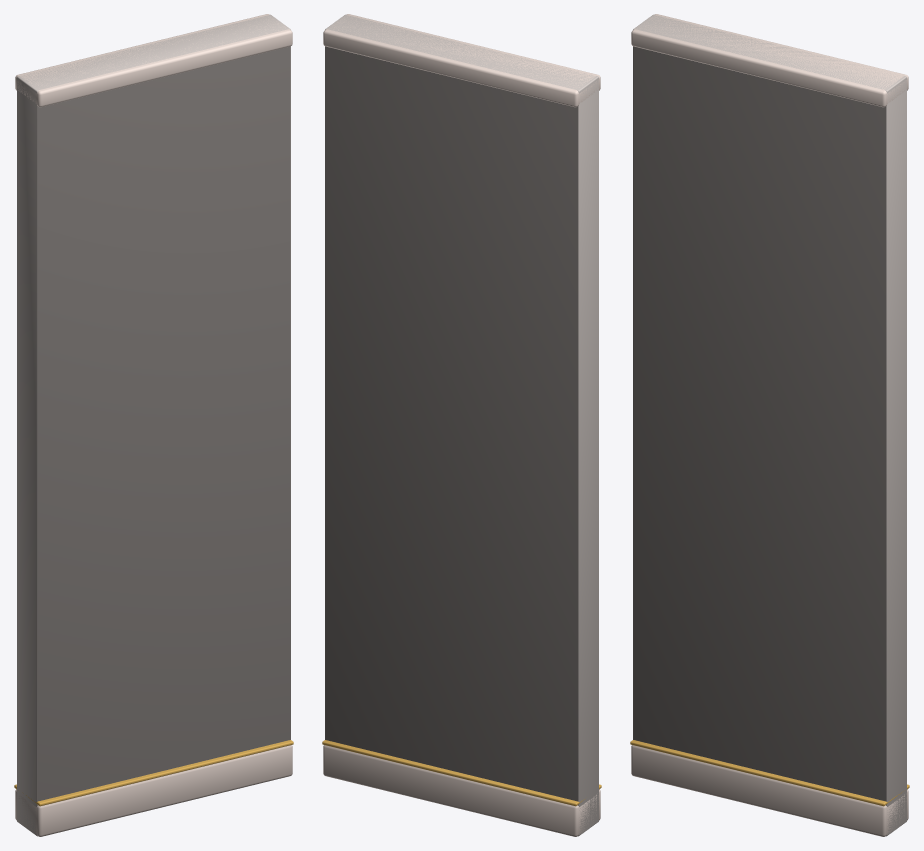
Rendered from wall.glb.
3 views of the same model, side by side, from view 1: azimuth 30°, elevation 25°; view 2: azimuth 150°, elevation 25°; view 3: azimuth 330°, elevation 25° (orthographic).
Visible parts, largest first — view 1: wall; view 2: wall; view 3: wall.
Boxes of the visible parts, left/top/right/bottom form: wall: left=14, top=14, right=293, bottom=836; wall: left=322, top=14, right=601, bottom=836; wall: left=630, top=14, right=909, bottom=836.
Size of the model in its own units: 1 by 2.8 by 0.176.
